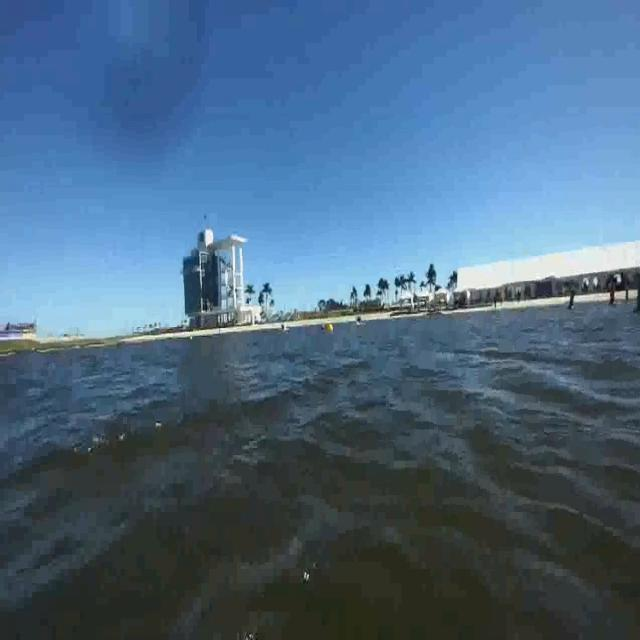green-column-buoy: (633, 272, 640, 314)
yellow-buoy: (326, 322, 334, 334)
